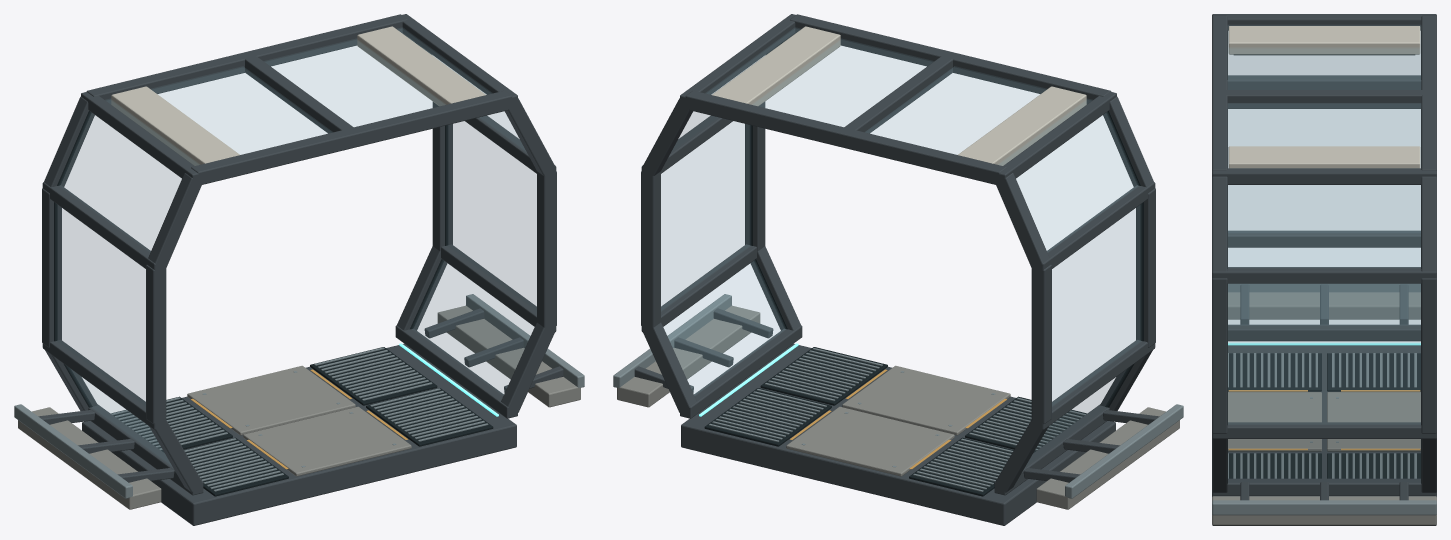
File: cruz-del-sur-panoramic-bay.glb
3 views of the same model, side by side, from view 1: azimuth 30°, elevation 25°; view 2: azimuth 150°, elevation 25°; view 3: azimuth 270°, elevation 25° (orthographic).
Visible parts, largest first — view 1: V2_GLASS__Blue-grey_glazing_V2, V2_STRUCTURE__Graphite_structural_alloy, V2_ROOF_GLASS__Blue-grey_glazing_V2, V2_ROOF__Graphite_structural_alloy, V2_FLOOR__Graphite_structural_alloy, V2_FLOOR__Warm_grey_removable_panels, V2_FLOOR__Machined_edge_steel, V2_FLOOR__Black_glazing_gaskets, V2_ROOF__Off-white_ceramic_housings, V2_OUTER_HULL__Warm_grey_removable_panels, V2_OUTER_HULL__Machined_edge_steel, V2_OUTER_HULL__Graphite_structural_alloy (+1 smaller); view 2: V2_GLASS__Blue-grey_glazing_V2, V2_STRUCTURE__Graphite_structural_alloy, V2_ROOF_GLASS__Blue-grey_glazing_V2, V2_ROOF__Graphite_structural_alloy, V2_FLOOR__Graphite_structural_alloy, V2_FLOOR__Warm_grey_removable_panels, V2_FLOOR__Machined_edge_steel, V2_FLOOR__Black_glazing_gaskets, V2_ROOF__Off-white_ceramic_housings, V2_OUTER_HULL__Warm_grey_removable_panels, V2_OUTER_HULL__Machined_edge_steel, V2_OUTER_HULL__Graphite_structural_alloy (+1 smaller); view 3: V2_GLASS__Blue-grey_glazing_V2, V2_STRUCTURE__Graphite_structural_alloy, V2_ROOF_GLASS__Blue-grey_glazing_V2, V2_ROOF__Off-white_ceramic_housings, V2_FLOOR__Black_glazing_gaskets, V2_ROOF__Graphite_structural_alloy, V2_OUTER_HULL__Warm_grey_removable_panels, V2_FLOOR__Warm_grey_removable_panels, V2_OUTER_HULL__Machined_edge_steel, V2_FLOOR__Machined_edge_steel, V2_FLOOR__Graphite_structural_alloy, V2_OUTER_HULL__Graphite_structural_alloy (+4 smaller).
Part boxes in pixels (x1,y1,x2,y2): V2_GLASS__Blue-grey_glazing_V2: [56, 112, 536, 465]; V2_STRUCTURE__Graphite_structural_alloy: [42, 14, 556, 495]; V2_ROOF_GLASS__Blue-grey_glazing_V2: [106, 28, 490, 165]; V2_ROOF__Graphite_structural_alloy: [86, 14, 512, 184]; V2_FLOOR__Graphite_structural_alloy: [82, 343, 516, 525]; V2_FLOOR__Warm_grey_removable_panels: [187, 365, 411, 476]; V2_FLOOR__Machined_edge_steel: [111, 347, 488, 491]; V2_FLOOR__Black_glazing_gaskets: [111, 347, 493, 496]; V2_ROOF__Off-white_ceramic_housings: [111, 26, 485, 165]; V2_OUTER_HULL__Warm_grey_removable_panels: [18, 305, 580, 509]; V2_OUTER_HULL__Machined_edge_steel: [14, 294, 584, 498]; V2_OUTER_HULL__Graphite_structural_alloy: [38, 308, 563, 482]; V2_GLASS__Blue-grey_glazing_V2: [661, 112, 1141, 465]; V2_STRUCTURE__Graphite_structural_alloy: [641, 14, 1155, 495]; V2_ROOF_GLASS__Blue-grey_glazing_V2: [707, 28, 1091, 165]; V2_ROOF__Graphite_structural_alloy: [685, 14, 1111, 184]; V2_FLOOR__Graphite_structural_alloy: [681, 343, 1115, 525]; V2_FLOOR__Warm_grey_removable_panels: [786, 365, 1010, 476]; V2_FLOOR__Machined_edge_steel: [709, 348, 1085, 491]; V2_FLOOR__Black_glazing_gaskets: [704, 347, 1086, 496]; V2_ROOF__Off-white_ceramic_housings: [712, 26, 1086, 165]; V2_OUTER_HULL__Warm_grey_removable_panels: [617, 305, 1179, 509]; V2_OUTER_HULL__Machined_edge_steel: [613, 294, 1183, 498]; V2_OUTER_HULL__Graphite_structural_alloy: [634, 308, 1159, 482]; V2_GLASS__Blue-grey_glazing_V2: [1228, 54, 1420, 482]; V2_STRUCTURE__Graphite_structural_alloy: [1212, 14, 1436, 495]; V2_ROOF_GLASS__Blue-grey_glazing_V2: [1228, 25, 1420, 167]; V2_ROOF__Off-white_ceramic_housings: [1228, 26, 1420, 168]; V2_FLOOR__Black_glazing_gaskets: [1228, 353, 1420, 478]; V2_ROOF__Graphite_structural_alloy: [1212, 15, 1436, 170]; V2_OUTER_HULL__Warm_grey_removable_panels: [1212, 292, 1436, 525]; V2_FLOOR__Warm_grey_removable_panels: [1228, 392, 1420, 451]; V2_OUTER_HULL__Machined_edge_steel: [1212, 283, 1436, 515]; V2_FLOOR__Machined_edge_steel: [1228, 353, 1416, 478]; V2_FLOOR__Graphite_structural_alloy: [1212, 345, 1436, 525]; V2_OUTER_HULL__Graphite_structural_alloy: [1240, 284, 1408, 500].
Bounding box in the file's own units: 4.82 × 3.54 × 2.03.
